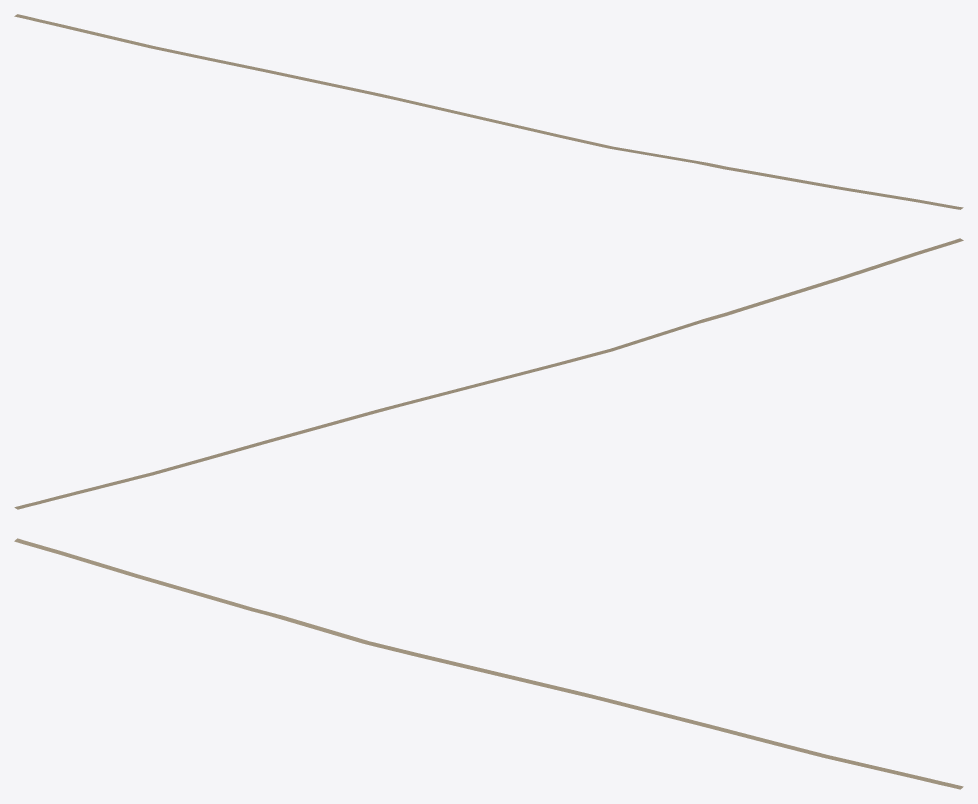
The model's file is farm_-5_13_track.glb.
The picture shows the model from 3 angles, top to bottom: view 1: azimuth 90°, elevation 25°; view 2: azimuth 150°, elevation 25°; view 3: azimuth 270°, elevation 25°; orthographic projection. The views are drawn at different scales.
Parts seen in each view (by area): view 1: geometry_0; view 2: geometry_0; view 3: geometry_0.
Part boxes in pixels (x1,y1,x2,y2): geometry_0: (14,14,963,209); geometry_0: (14,238,963,509); geometry_0: (14,538,963,789).
Size of the model in its own units: 238 by 13.83 by 427.
